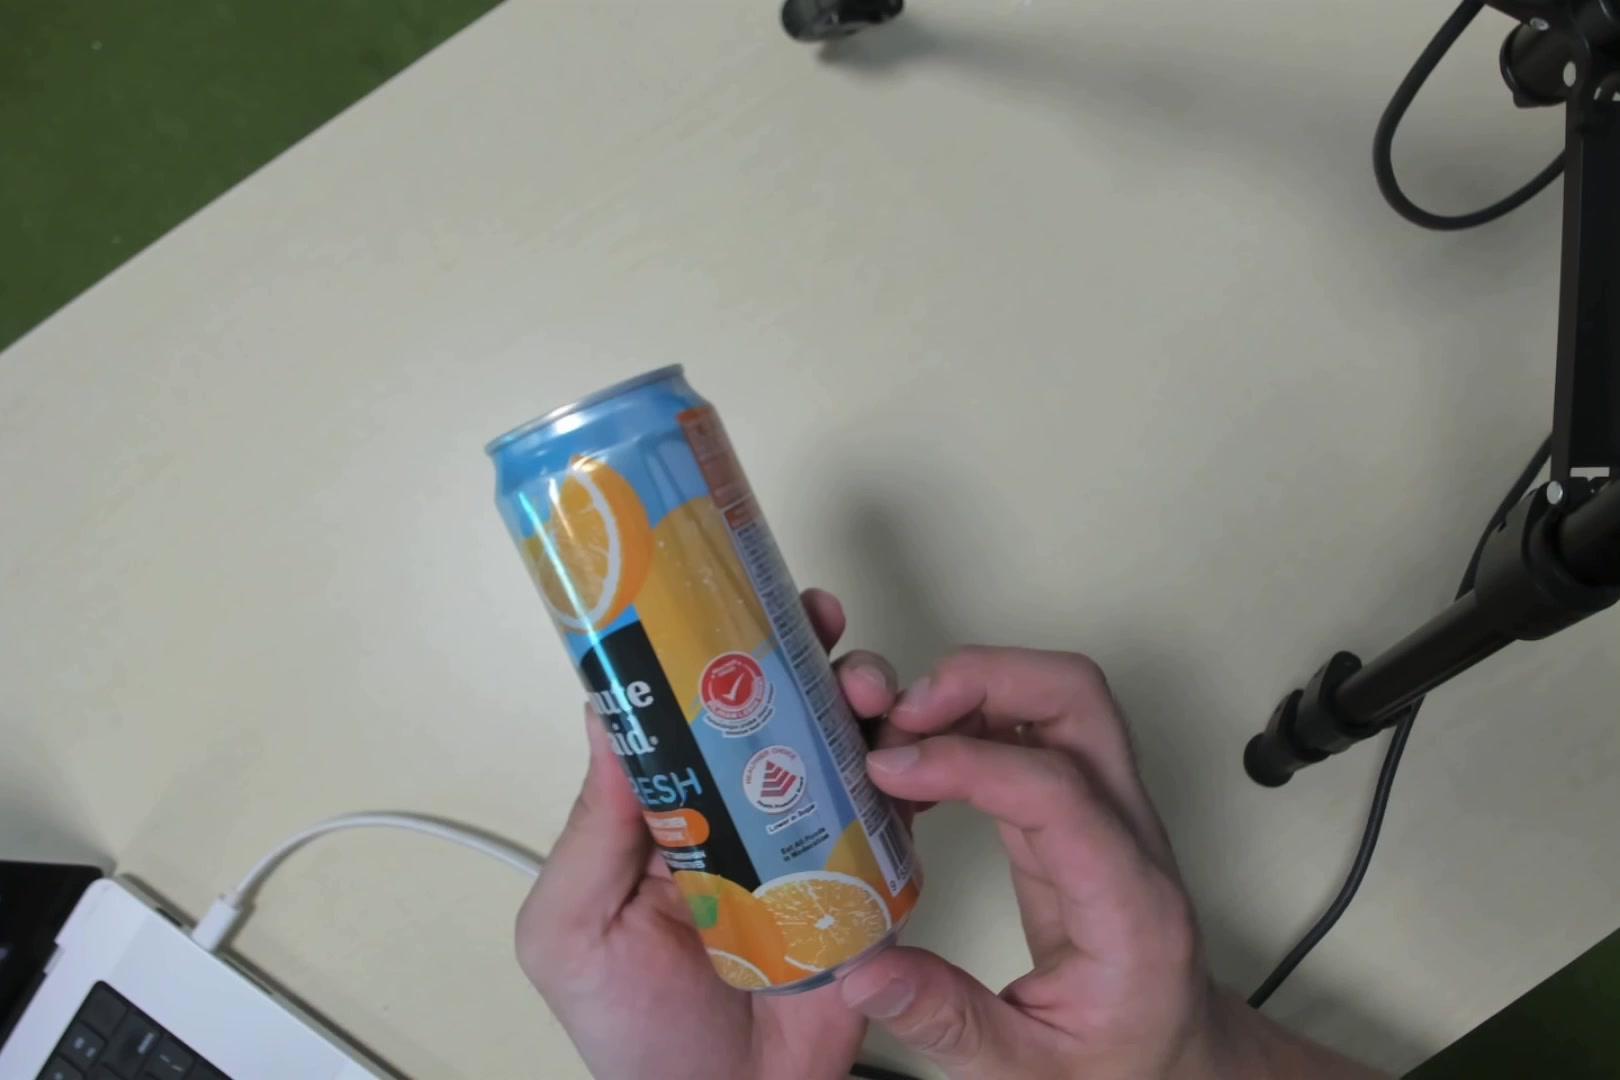SoftDrinks_200-299g_Halal_Healthy: (538, 403, 897, 967)
